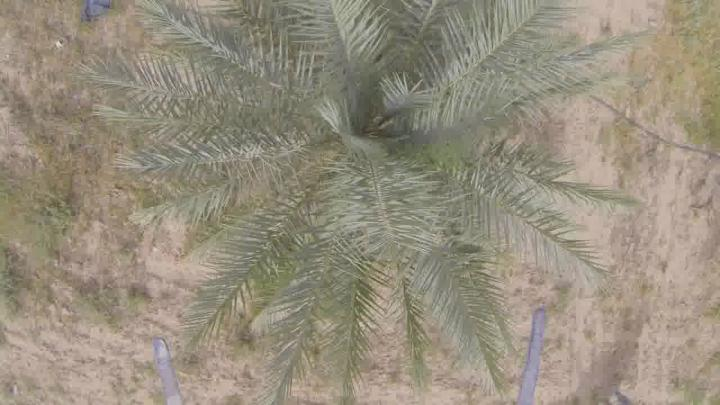Date-Palm-Crown: (232, 0, 504, 260)
